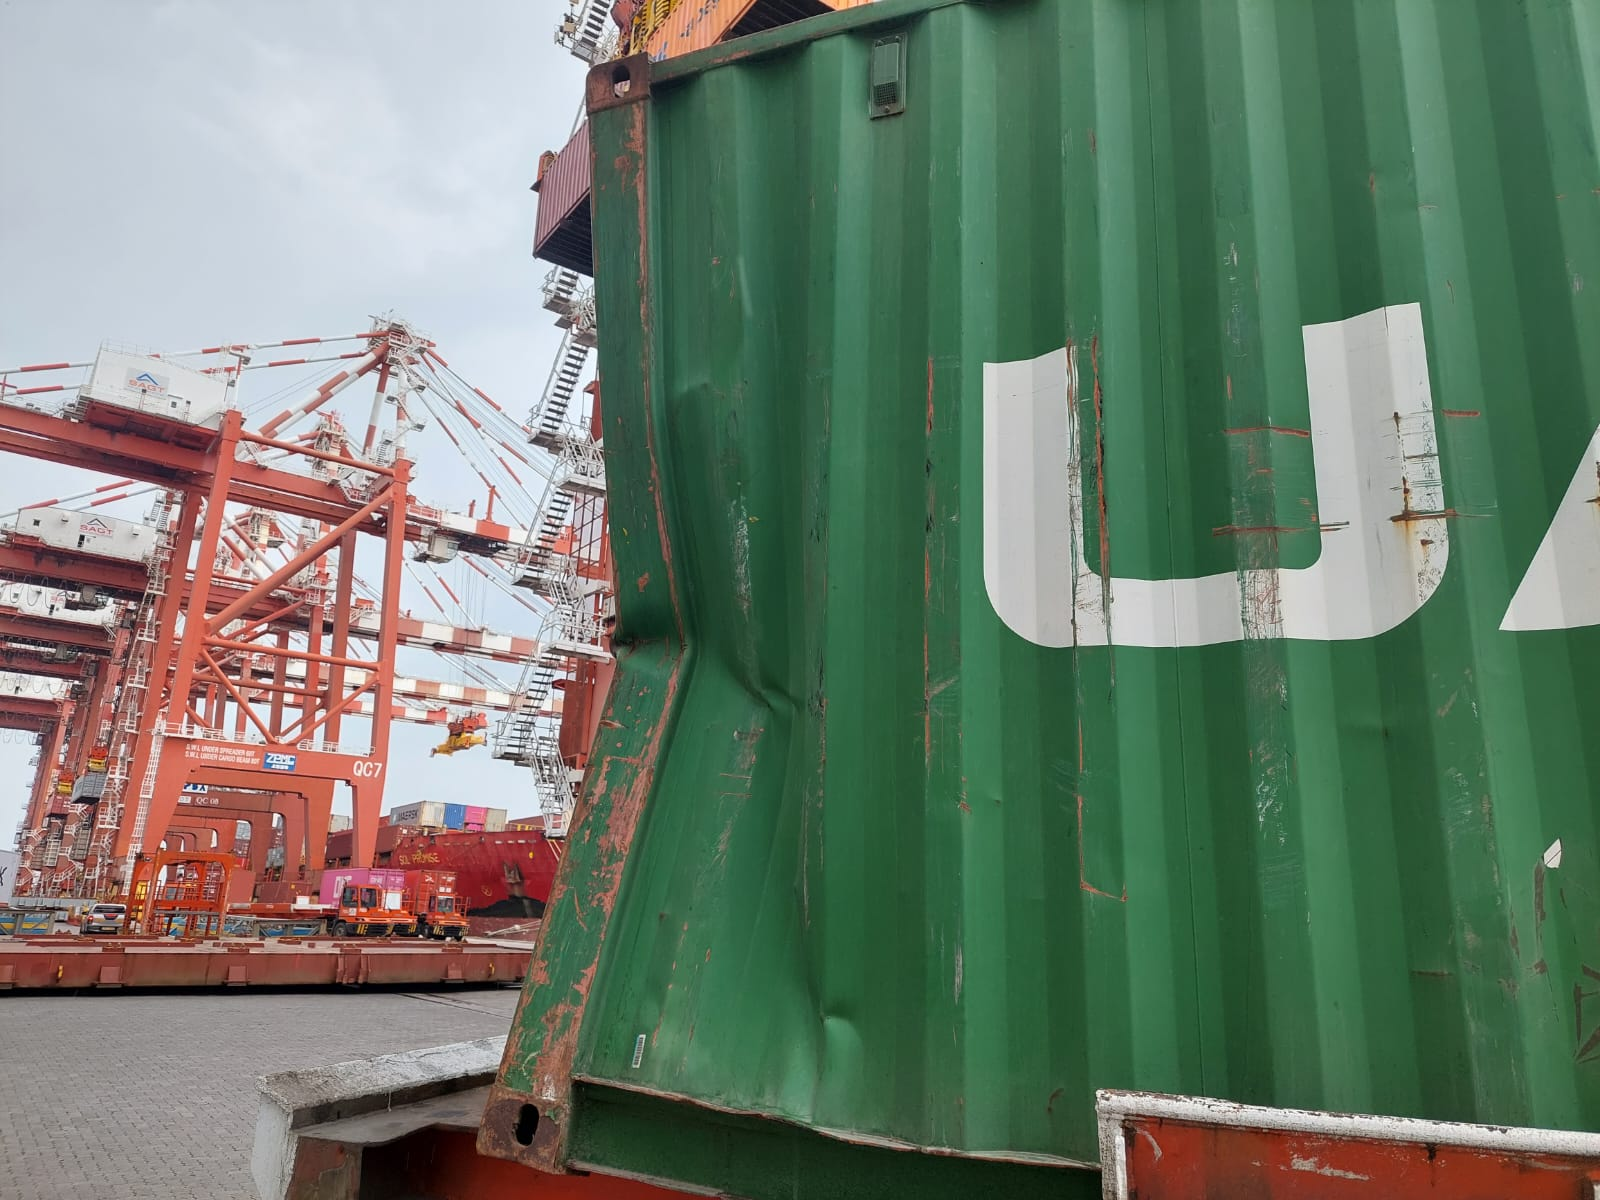moderate: (576, 241, 881, 1013)
